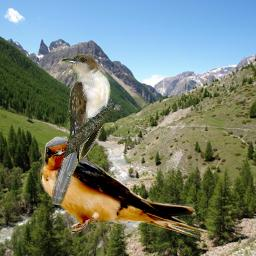Cuckoo: (51, 54, 112, 205)
Swallow: (38, 136, 214, 244)
